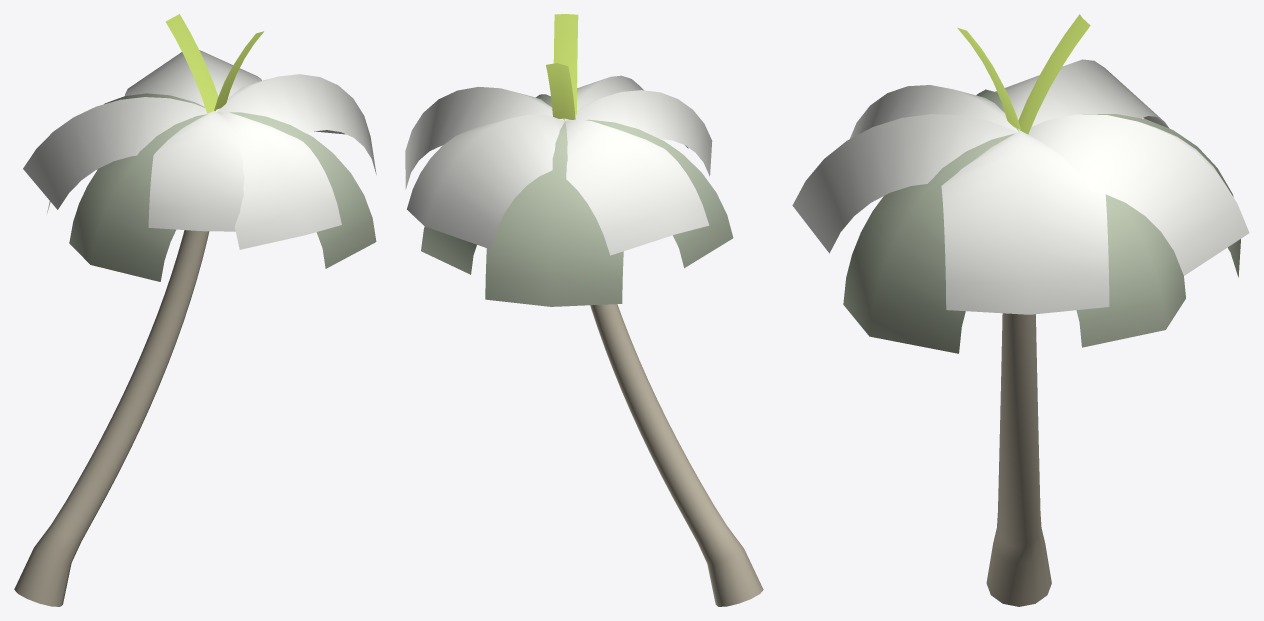
Rendered from plant_palm_1.glb.
3 views of the same model, side by side, from view 1: azimuth 30°, elevation 25°; view 2: azimuth 150°, elevation 25°; view 3: azimuth 270°, elevation 25° (orthographic). The views are drawn at different scales.
Visible parts, largest first — view 1: plant_palm_1; view 2: plant_palm_1; view 3: plant_palm_1.
Boxes of the visible parts, x1=… form: plant_palm_1: x1=14, y1=14, x2=376, y2=606; plant_palm_1: x1=405, y1=14, x2=763, y2=606; plant_palm_1: x1=792, y1=14, x2=1249, y2=606.
Bounding box in the file's own units: 6.73 × 9.71 × 5.87.
